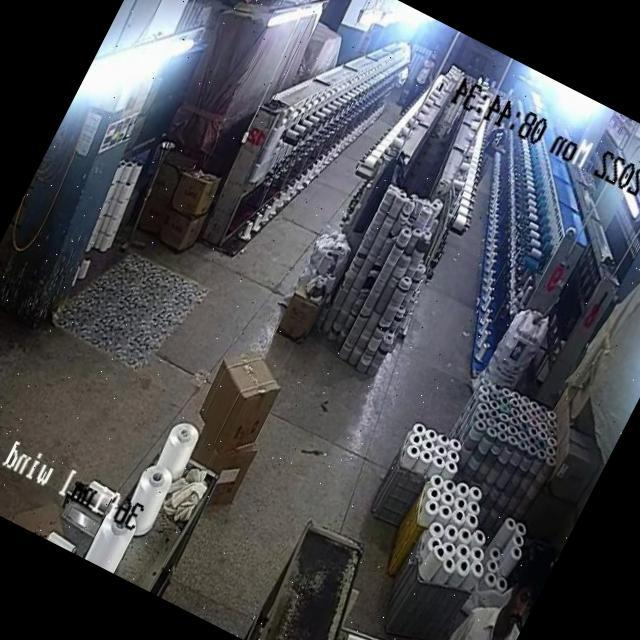person: (391, 542, 546, 640), (470, 114, 514, 178), (406, 47, 444, 99)
